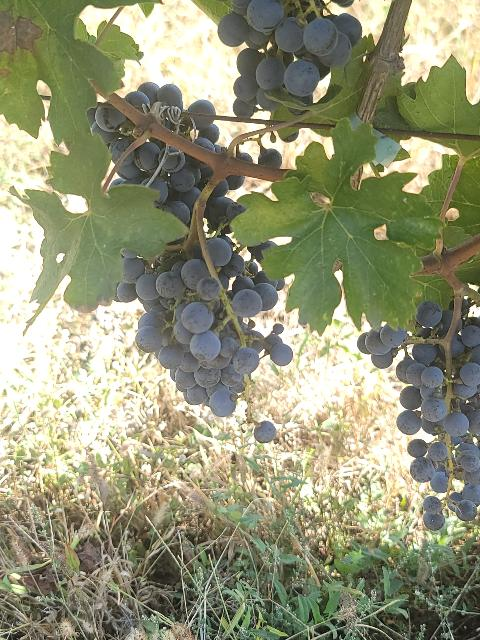grapes: (116, 234, 292, 418), (360, 292, 480, 530), (88, 102, 212, 224), (218, 0, 352, 111), (125, 82, 221, 152)
